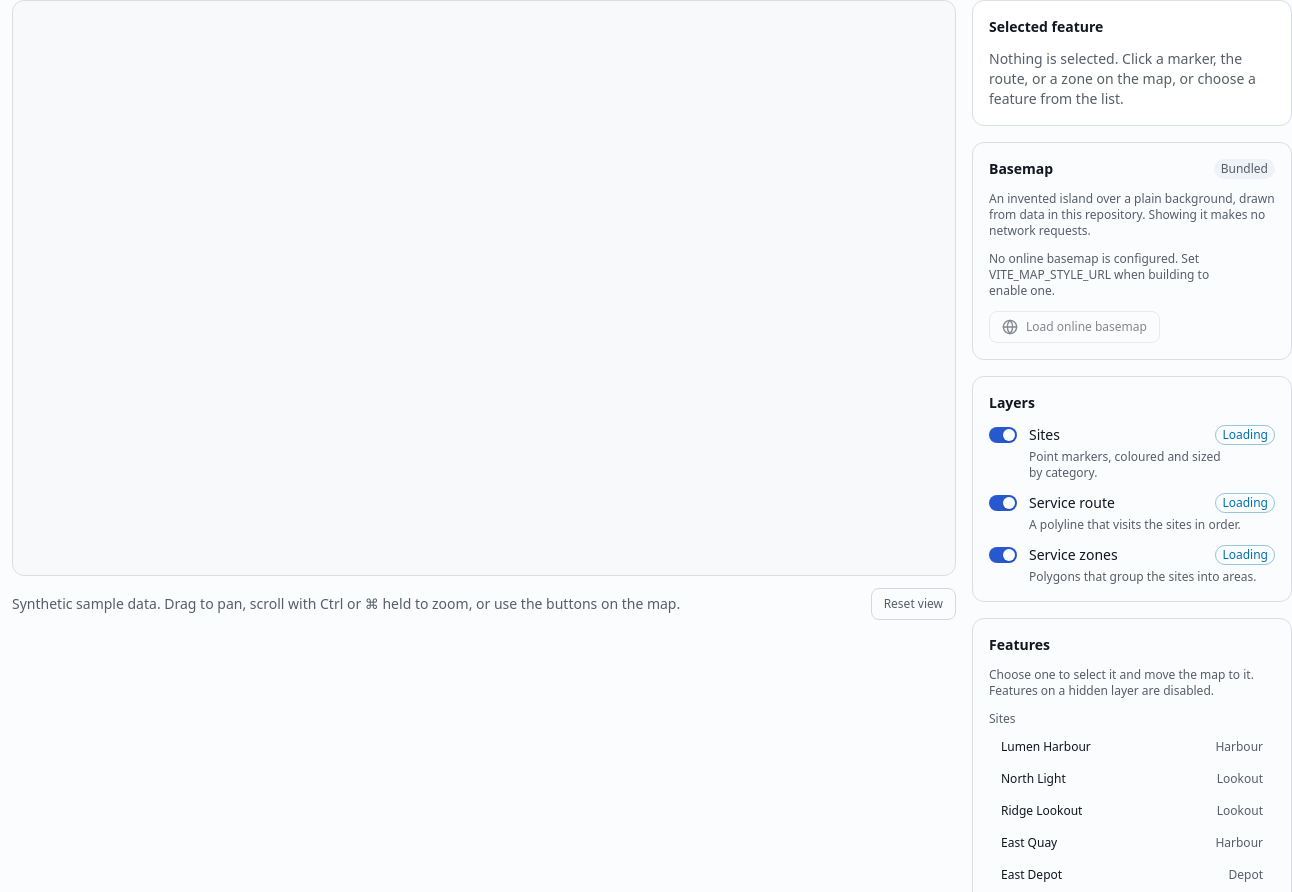
Test case: layer controls › hides a layer on the map and says so
Click the 2nd switch named "Service route".
click(1003, 503)  # box [989,495,1017,511]
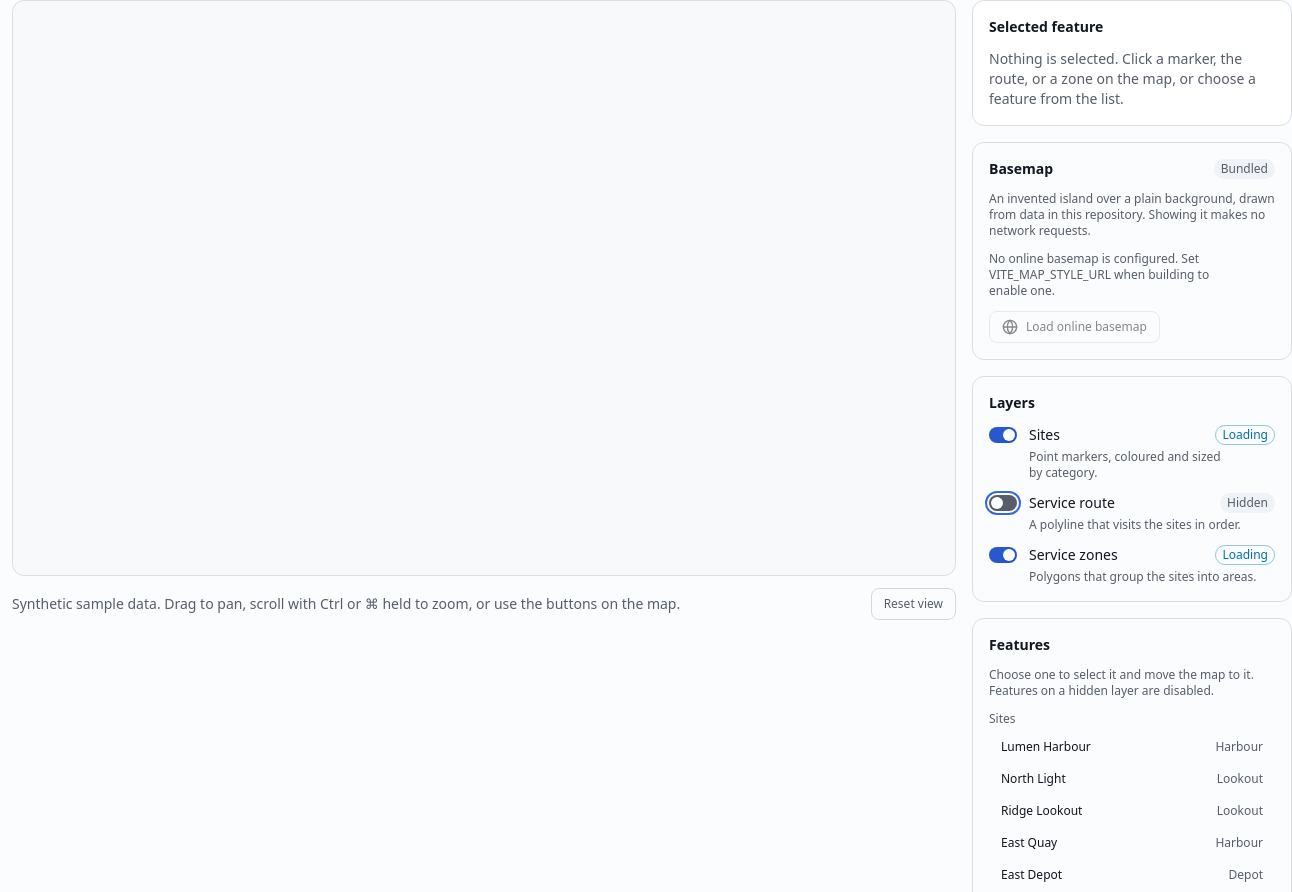
Expected: the list item "Service route" is shown, [989,493,1275,533]
Now the 2nd switch named "Service route" is not checked, box [989,495,1017,511]
Now the text "Hidden" is shown, box [1220,493,1275,513]
